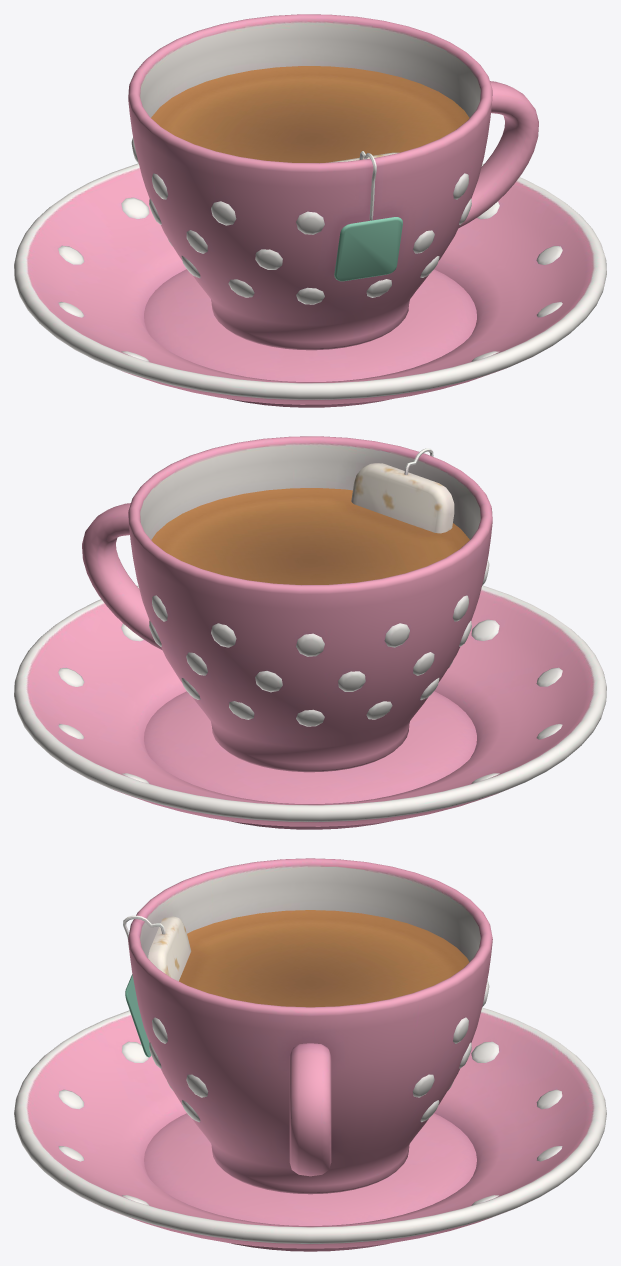
The model's file is coffee-cup.glb.
3 renders of one model, top to bottom at view 1: azimuth 30°, elevation 25°; view 2: azimuth 150°, elevation 25°; view 3: azimuth 270°, elevation 25°, orthographic.
Visible parts, largest first — view 1: tea-cup_teacup, tea-cup_body; view 2: tea-cup_teacup, tea-cup_body; view 3: tea-cup_teacup, tea-cup_body.
Part boxes in pixels (bbox=[...]): tea-cup_teacup: bbox=[128, 14, 538, 350]; tea-cup_body: bbox=[14, 163, 606, 407]; tea-cup_teacup: bbox=[82, 436, 492, 772]; tea-cup_body: bbox=[14, 585, 606, 829]; tea-cup_teacup: bbox=[123, 858, 492, 1194]; tea-cup_body: bbox=[14, 1007, 606, 1251].
Size of the model in its own units: 0.1469 by 0.0686 by 0.1469.
Materials: 2 (2 with a texture image).
